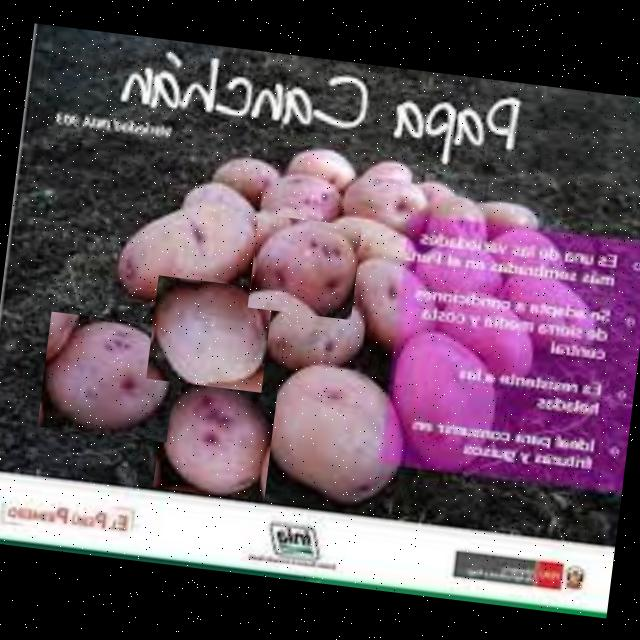Diseased-fungal potato: (253, 356, 414, 512), (37, 311, 180, 442), (152, 378, 277, 500), (146, 275, 274, 392), (247, 213, 362, 320), (258, 284, 371, 376)
